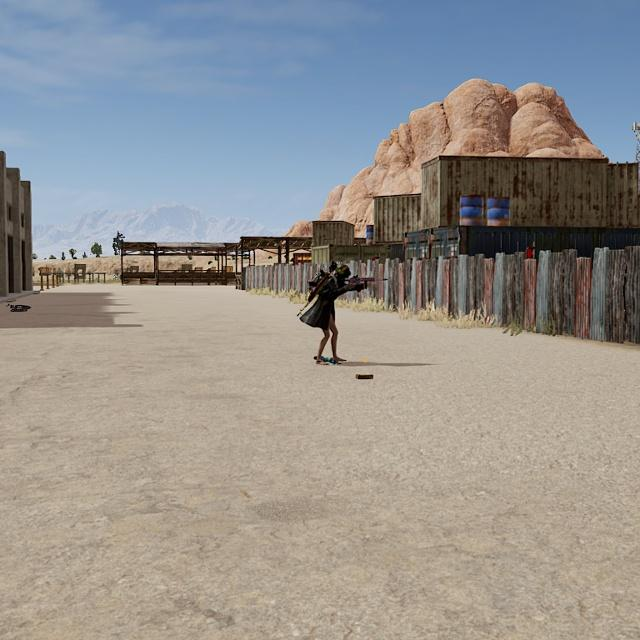head: (336, 263, 352, 282)
people: (313, 263, 360, 365)
